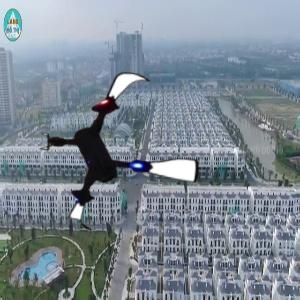drone: (37, 69, 207, 239)
